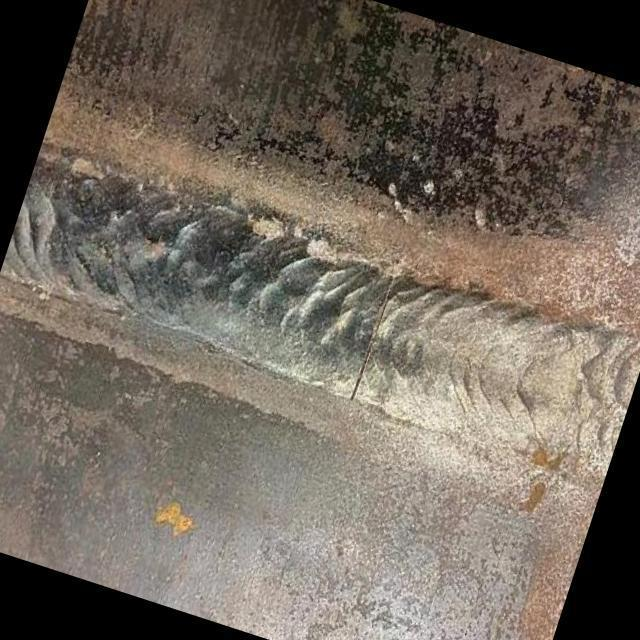defect: (347, 273, 393, 408)
